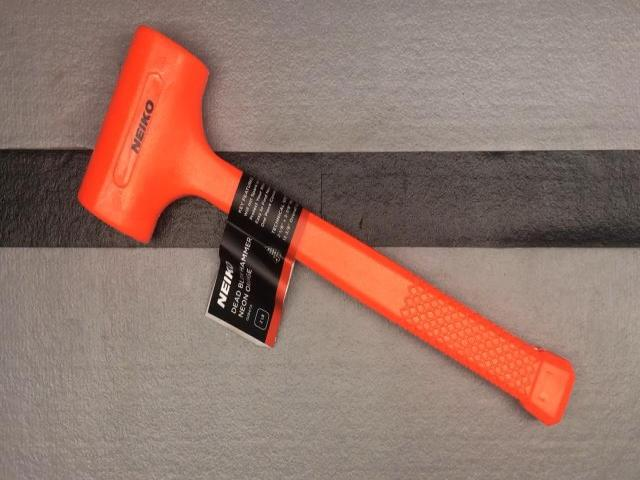hammer: (73, 19, 576, 427)
